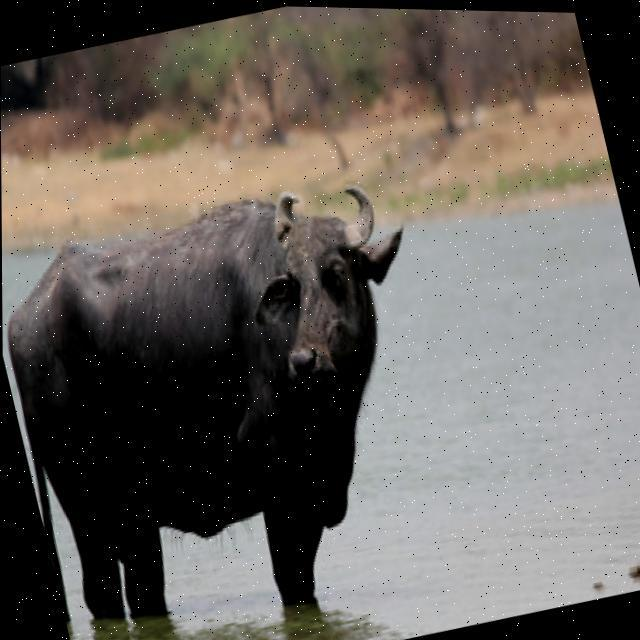Buffalo: (1, 150, 485, 640)
